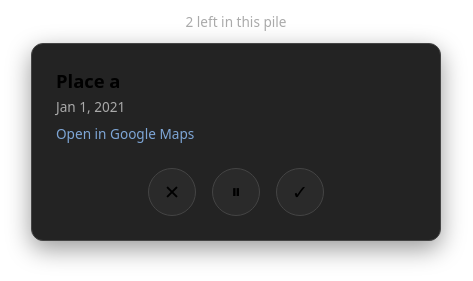
Test case: ImportSwipeView › moves a deferred card to the back of the queue instead of showing it again immediately
The width and height of the screenshot is (473, 281).
Expected: the text "Place a" is shown, [56,68,120,93]
Step 1. Click the button named "Later" → (236, 192), box [212,168,260,216]
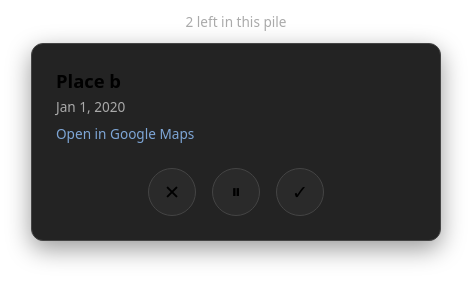
Now the text "Place b" is shown, box [56,68,121,93]
